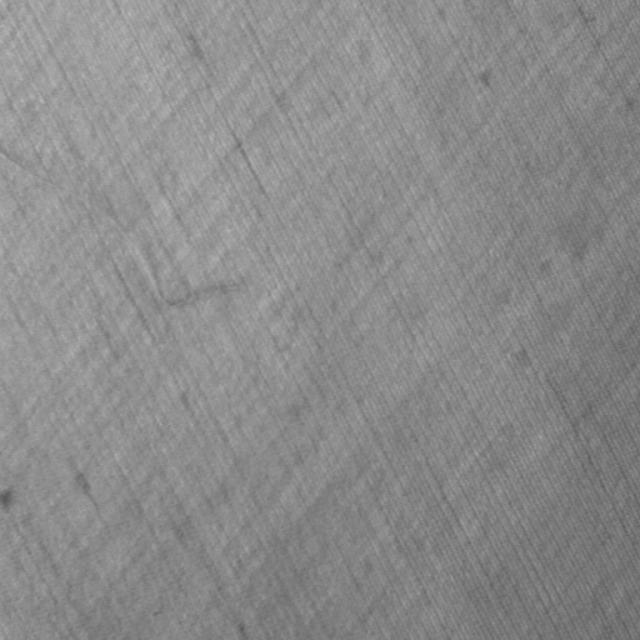objects: (0, 140, 244, 314)
